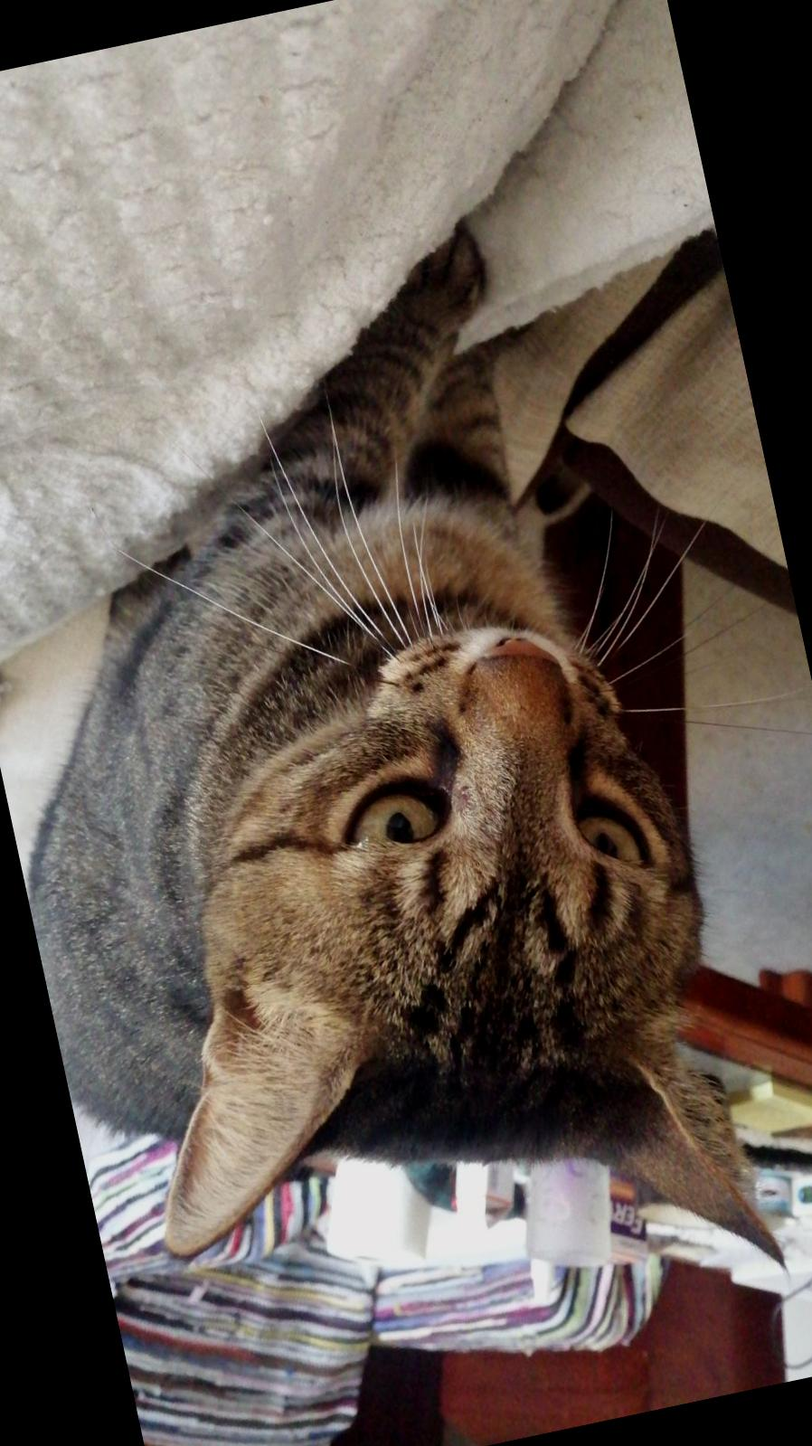macka: (0, 205, 786, 1404)
